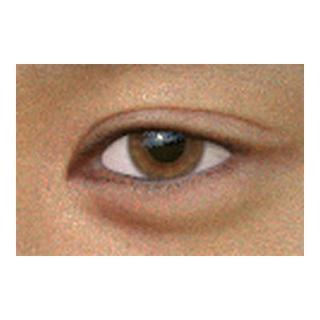pupil: (148, 125, 185, 163)
